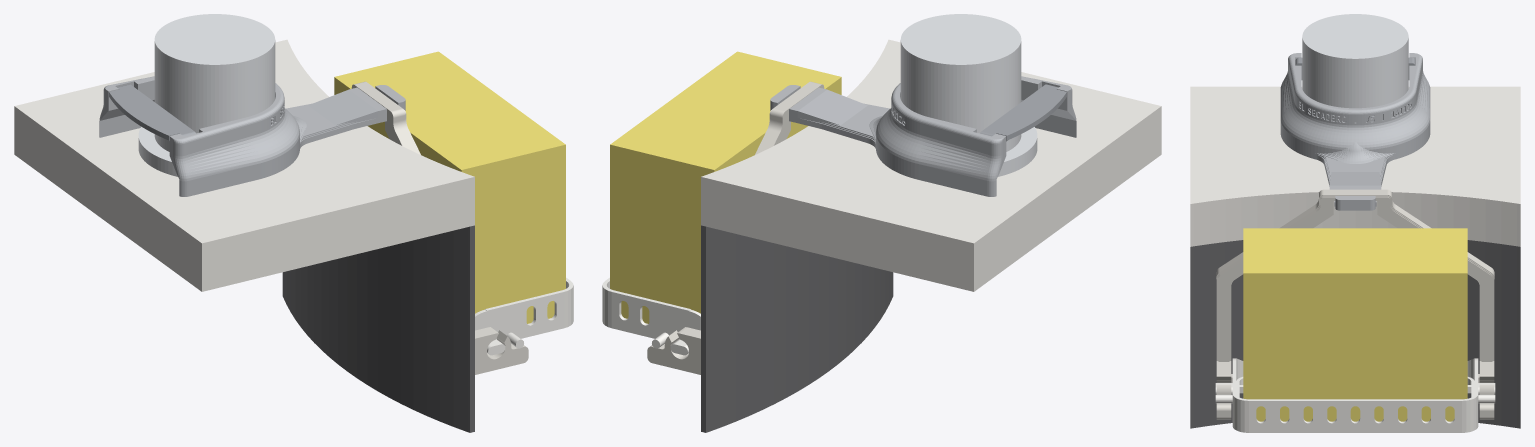
File: estropajero_v5_abajo.glb
3 views of the same model, side by side, from view 1: azimuth 30°, elevation 25°; view 2: azimuth 150°, elevation 25°; view 3: azimuth 270°, elevation 25° (orthographic). The views are drawn at different scales.
Visible parts, largest first — view 1: estropajero_v5_abajo.glb_0, estropajero_v5_abajo.glb_1, estropajero_v5_abajo.glb_8, estropajero_v5_abajo.glb_4, estropajero_v5_abajo.glb_3, estropajero_v5_abajo.glb_7, estropajero_v5_abajo.glb_6, estropajero_v5_abajo.glb_5, estropajero_v5_abajo.glb_2; view 2: estropajero_v5_abajo.glb_0, estropajero_v5_abajo.glb_1, estropajero_v5_abajo.glb_8, estropajero_v5_abajo.glb_4, estropajero_v5_abajo.glb_3, estropajero_v5_abajo.glb_7, estropajero_v5_abajo.glb_6, estropajero_v5_abajo.glb_5, estropajero_v5_abajo.glb_2; view 3: estropajero_v5_abajo.glb_8, estropajero_v5_abajo.glb_0, estropajero_v5_abajo.glb_1, estropajero_v5_abajo.glb_4, estropajero_v5_abajo.glb_3, estropajero_v5_abajo.glb_7, estropajero_v5_abajo.glb_6.
Boxes of the visible parts, left/top/right/bottom form: estropajero_v5_abajo.glb_0: left=14, top=39, right=474, bottom=291; estropajero_v5_abajo.glb_1: left=282, top=225, right=474, bottom=432; estropajero_v5_abajo.glb_8: left=334, top=51, right=565, bottom=323; estropajero_v5_abajo.glb_4: left=99, top=76, right=405, bottom=196; estropajero_v5_abajo.glb_3: left=154, top=14, right=275, bottom=151; estropajero_v5_abajo.glb_7: left=475, top=277, right=573, bottom=355; estropajero_v5_abajo.glb_6: left=351, top=81, right=528, bottom=374; estropajero_v5_abajo.glb_5: left=109, top=84, right=195, bottom=141; estropajero_v5_abajo.glb_2: left=138, top=127, right=177, bottom=176; estropajero_v5_abajo.glb_0: left=701, top=39, right=1161, bottom=291; estropajero_v5_abajo.glb_1: left=701, top=225, right=893, bottom=432; estropajero_v5_abajo.glb_8: left=610, top=51, right=841, bottom=323; estropajero_v5_abajo.glb_4: left=770, top=76, right=1076, bottom=196; estropajero_v5_abajo.glb_3: left=900, top=14, right=1021, bottom=151; estropajero_v5_abajo.glb_7: left=602, top=277, right=700, bottom=355; estropajero_v5_abajo.glb_6: left=647, top=81, right=824, bottom=374; estropajero_v5_abajo.glb_5: left=980, top=84, right=1066, bottom=141; estropajero_v5_abajo.glb_2: left=998, top=127, right=1037, bottom=176; estropajero_v5_abajo.glb_8: left=1243, top=228, right=1467, bottom=421; estropajero_v5_abajo.glb_0: left=1190, top=86, right=1520, bottom=246; estropajero_v5_abajo.glb_1: left=1190, top=240, right=1520, bottom=428; estropajero_v5_abajo.glb_4: left=1280, top=53, right=1430, bottom=210; estropajero_v5_abajo.glb_3: left=1302, top=14, right=1408, bottom=108; estropajero_v5_abajo.glb_7: left=1215, top=358, right=1495, bottom=432; estropajero_v5_abajo.glb_6: left=1216, top=189, right=1494, bottom=419.
Bounding box in the file's own units: 0.1734 × 0.15 × 0.14.
